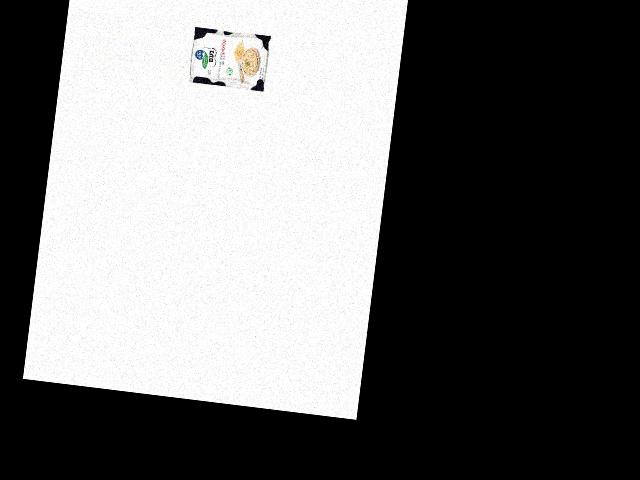cheese: (187, 25, 272, 92)
